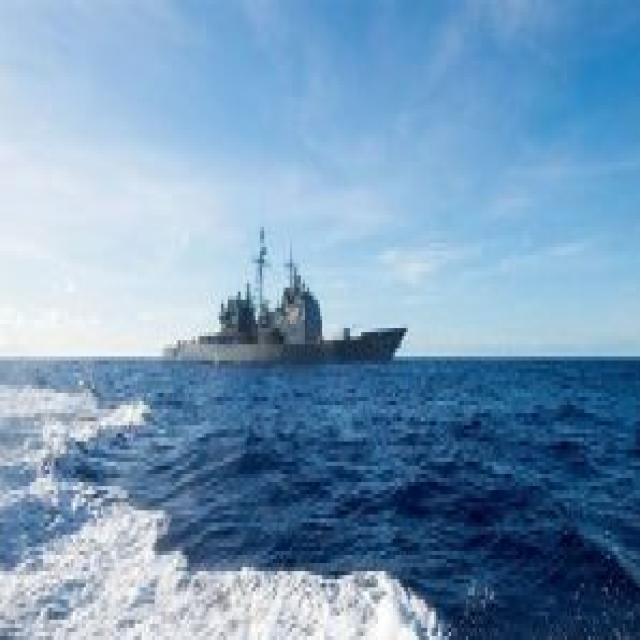navalvessels: (169, 239, 414, 361)
